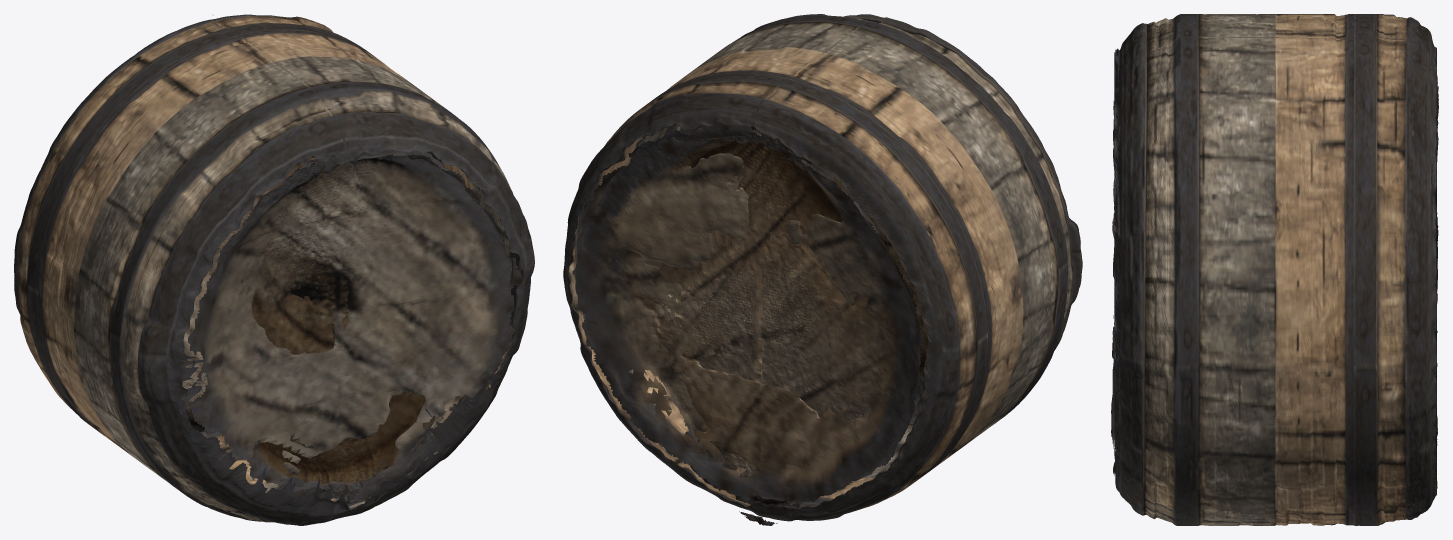
File: mesh_inpaint.glb
The picture shows the model from 3 angles, left to right: view 1: azimuth 30°, elevation 25°; view 2: azimuth 150°, elevation 25°; view 3: azimuth 270°, elevation 25°; orthographic projection. The views are drawn at different scales.
Visible parts, largest first — view 1: ipn, fill; view 2: fill, ipn; view 3: ipn, fill.
Part boxes in pixels (x1,y1,x2,y2): ipn: [14, 14, 534, 525]; fill: [182, 14, 523, 503]; fill: [572, 102, 928, 525]; ipn: [563, 14, 1082, 521]; ipn: [1114, 14, 1436, 525]; fill: [1111, 42, 1438, 488].
Bounding box in the file's own units: 2 × 2.03 × 1.28.
Materials: 2 (1 with a texture image).
